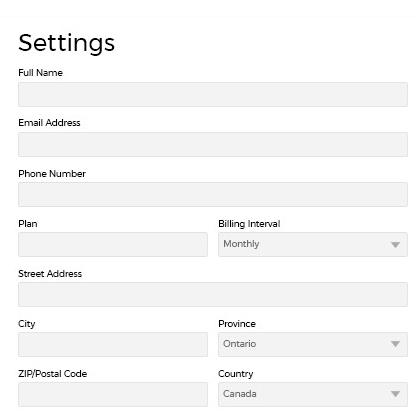field: (14, 279, 409, 308), (11, 180, 410, 208), (14, 130, 408, 158), (13, 81, 409, 108), (12, 229, 208, 258), (13, 329, 208, 357), (217, 230, 409, 258), (15, 380, 209, 407), (218, 332, 410, 358), (216, 382, 408, 408)
field_with_label: (10, 67, 411, 110), (12, 117, 410, 160), (8, 168, 412, 210), (11, 269, 411, 310), (12, 367, 212, 409), (214, 368, 410, 410), (10, 219, 210, 260), (216, 218, 411, 260), (217, 318, 412, 360), (10, 318, 209, 358)
